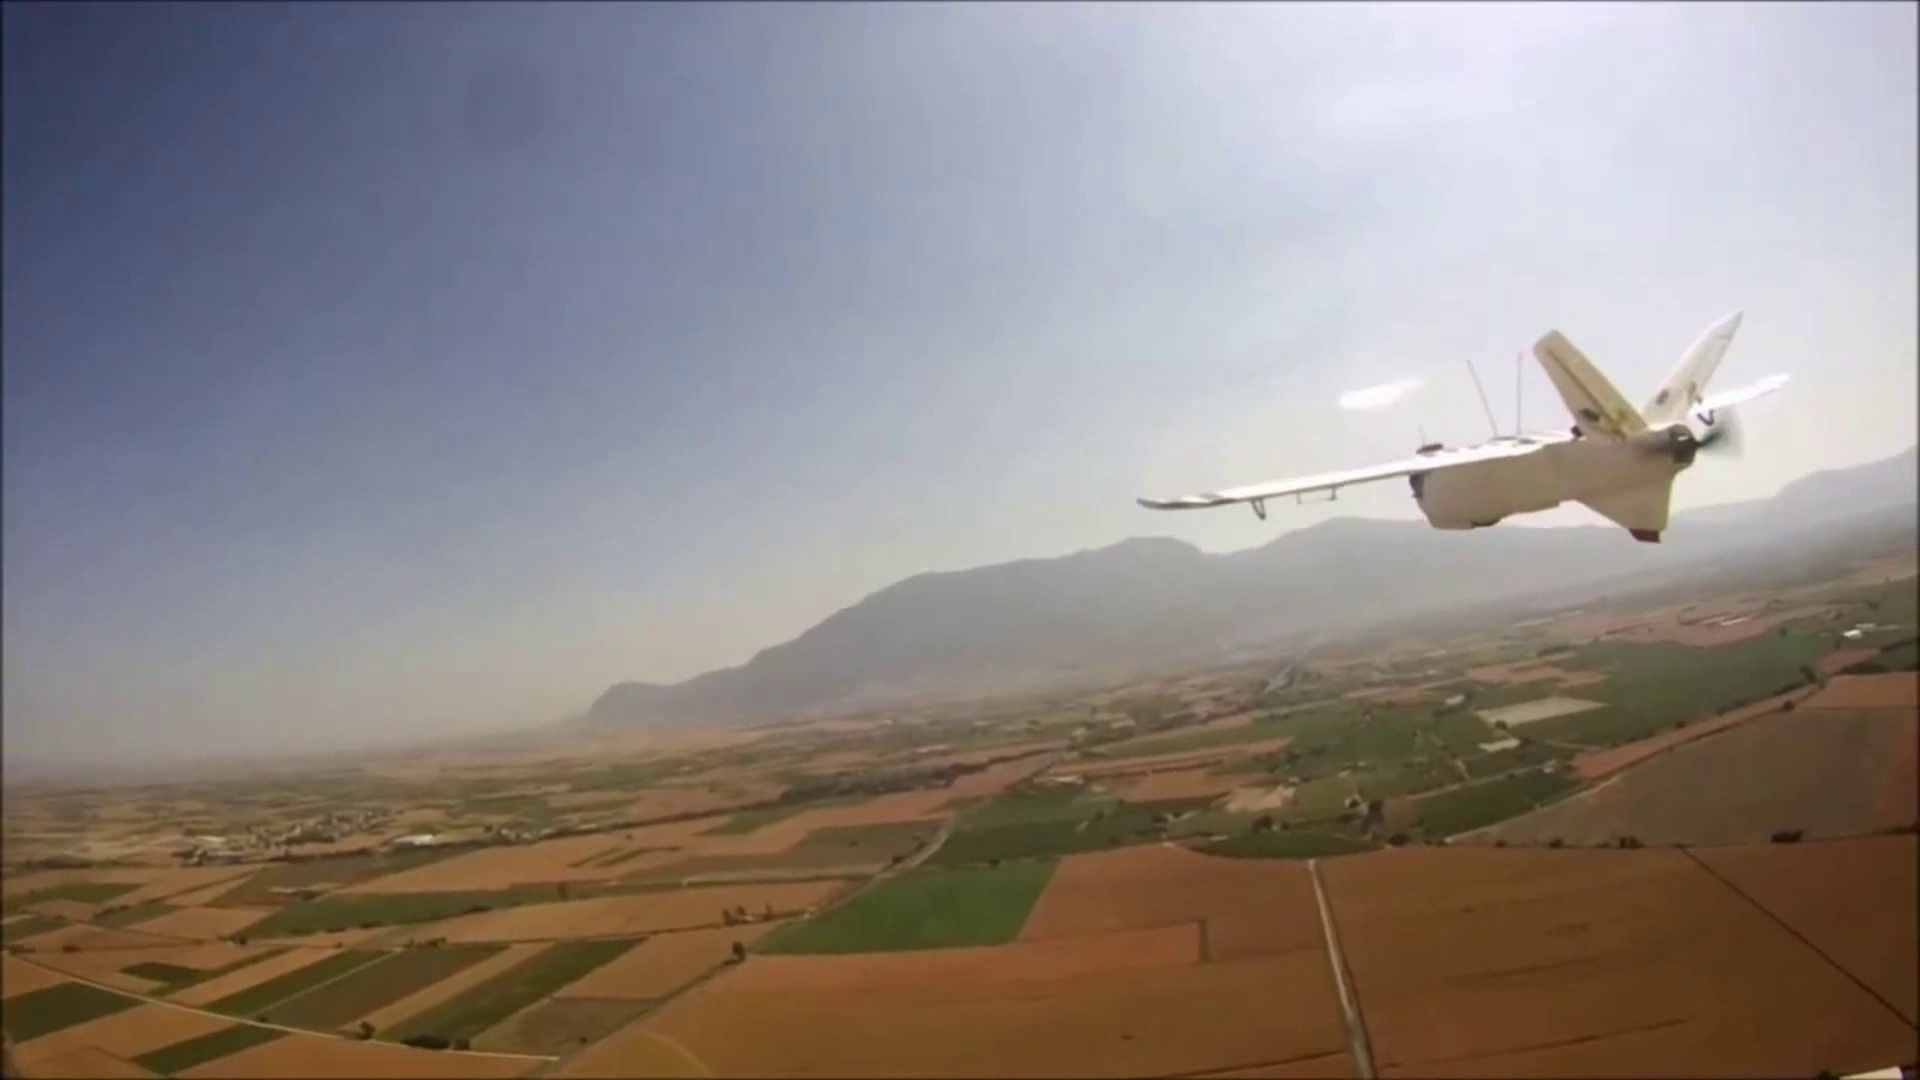airplane: (1138, 311, 1793, 549)
